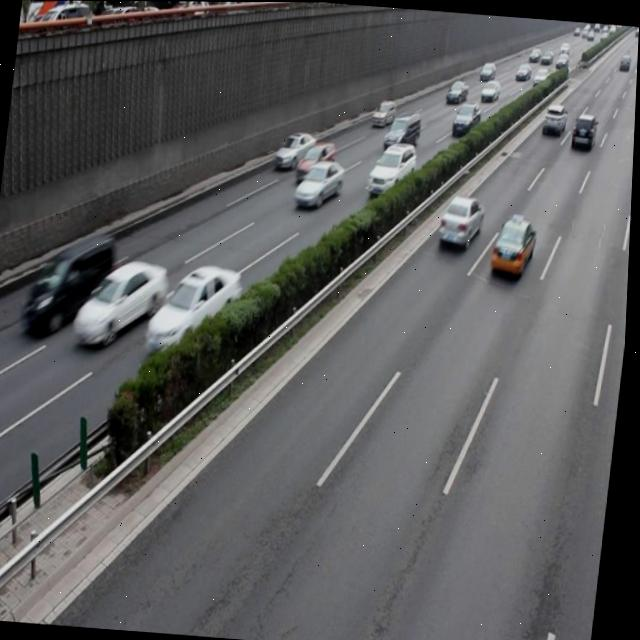car: (144, 258, 247, 359), (71, 254, 172, 352), (489, 214, 539, 279), (292, 156, 346, 210), (366, 140, 418, 196), (438, 191, 486, 248), (274, 129, 318, 172), (295, 139, 337, 183)
truck: (21, 229, 119, 340)
